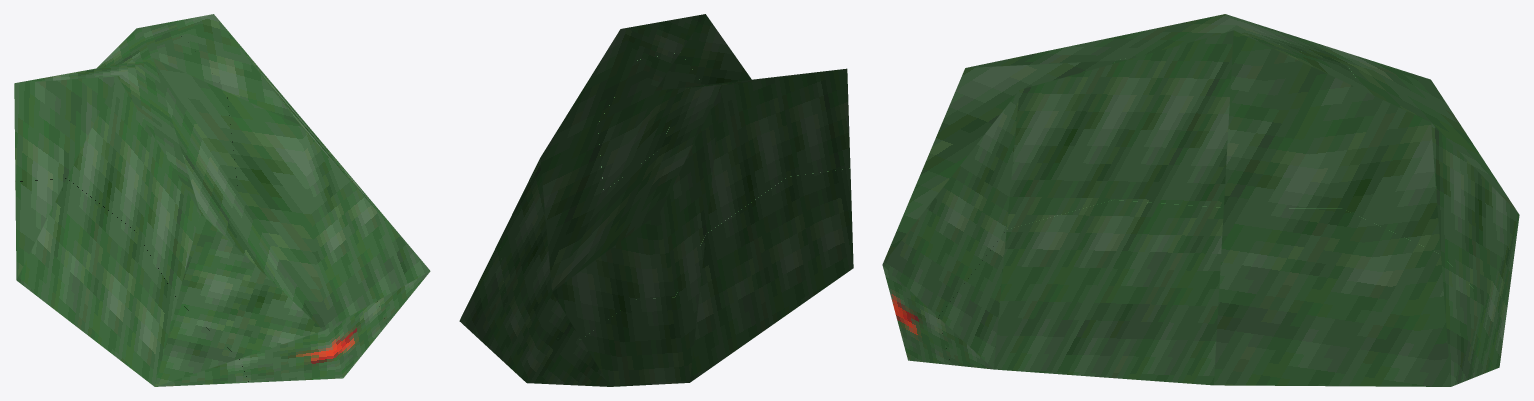
The model's file is PhattbirdbrownZ.obj.
3 renders of one model, left to right at view 1: azimuth 30°, elevation 25°; view 2: azimuth 150°, elevation 25°; view 3: azimuth 270°, elevation 25°, orthographic. The views are drawn at different scales.
Bounding box in the file's own units: 134 × 134 × 223.
1 material, 1 textured.
